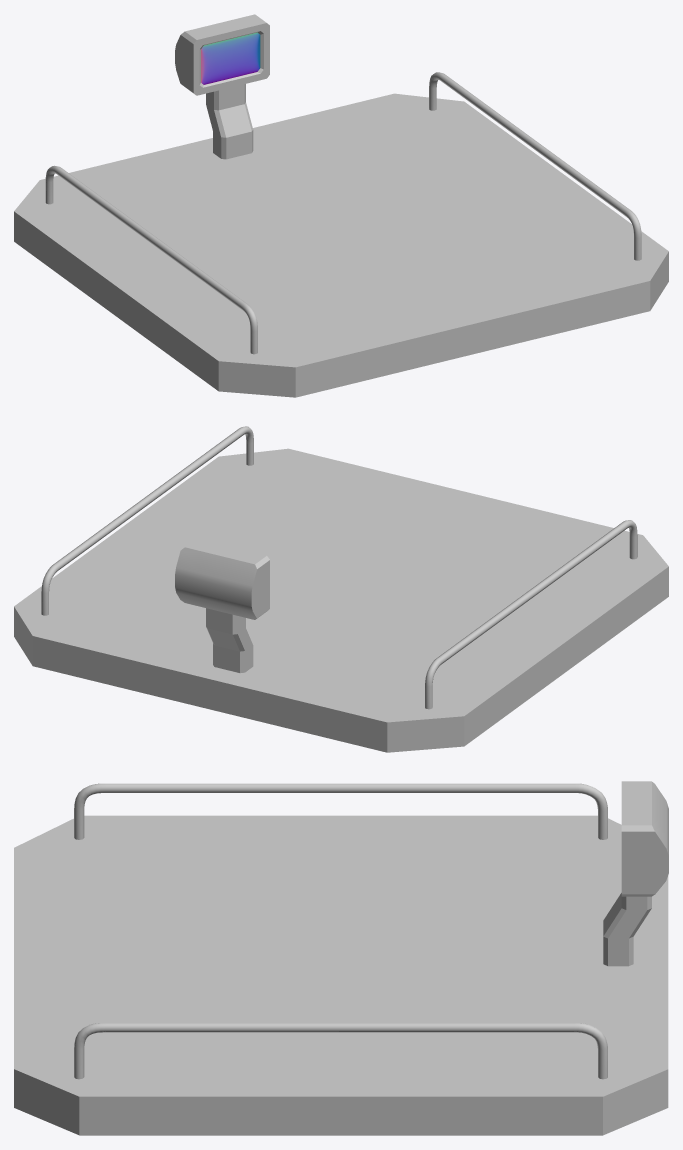
File: elevator.FBX
The picture shows the model from 3 angles, top to bottom: view 1: azimuth 30°, elevation 25°; view 2: azimuth 150°, elevation 25°; view 3: azimuth 270°, elevation 25°; orthographic projection. The views are drawn at different scales.
Parts seen in each view (by area): view 1: elevator; view 2: elevator; view 3: elevator.
Part boxes in pixels (<box>): elevator: <box>14,14,668,397</box>; elevator: <box>14,426,668,752</box>; elevator: <box>14,781,668,1135</box>.
Bounding box in the file's own units: 18.29 × 5.81 × 18.01.
